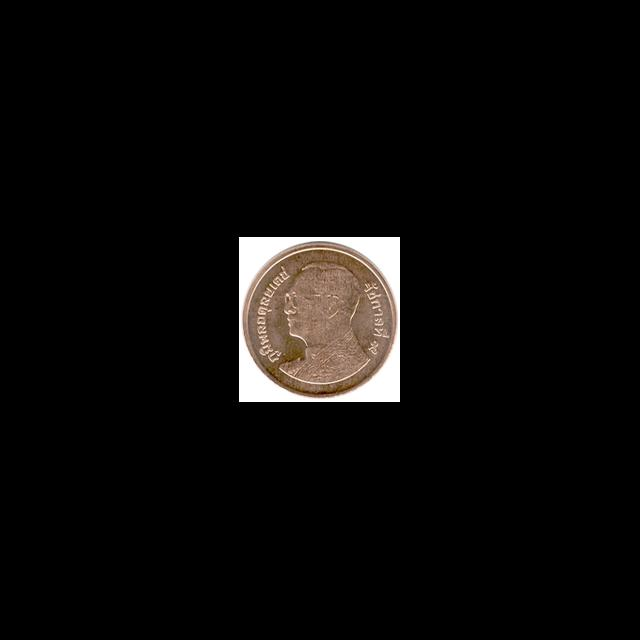50-satang: (240, 238, 400, 402)
